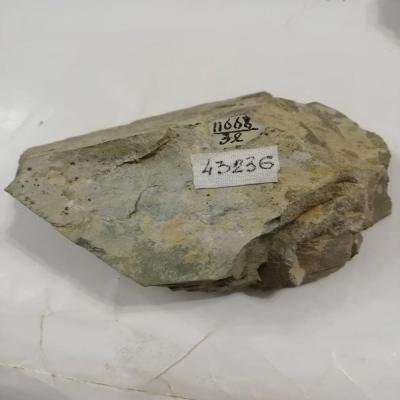mineralogy: (5, 92, 393, 296)
